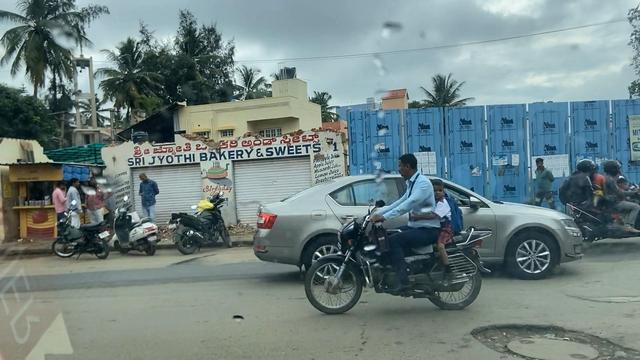LMV: (300, 163, 465, 304)
RoadDamages: (461, 322, 626, 360), (559, 281, 640, 309)
